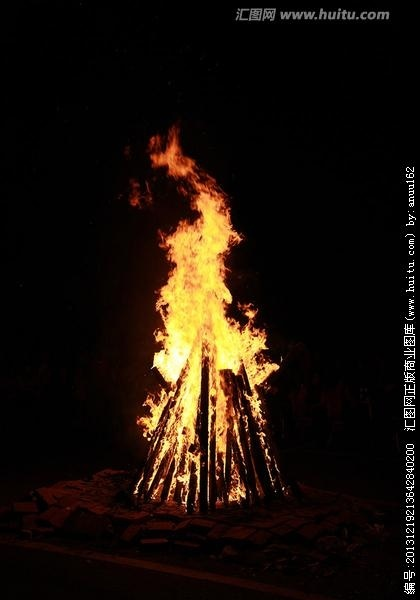fire: (123, 111, 288, 497)
